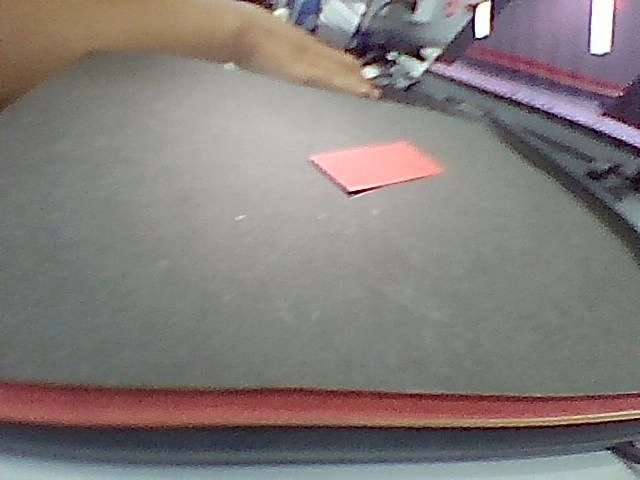card: (311, 141, 443, 194)
